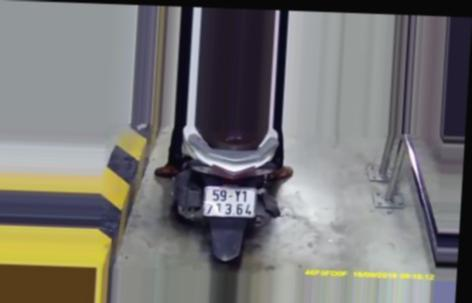License_Plate: (199, 182, 261, 221)
